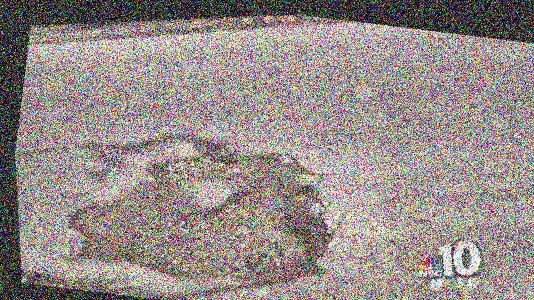pothole: (39, 97, 350, 300)
